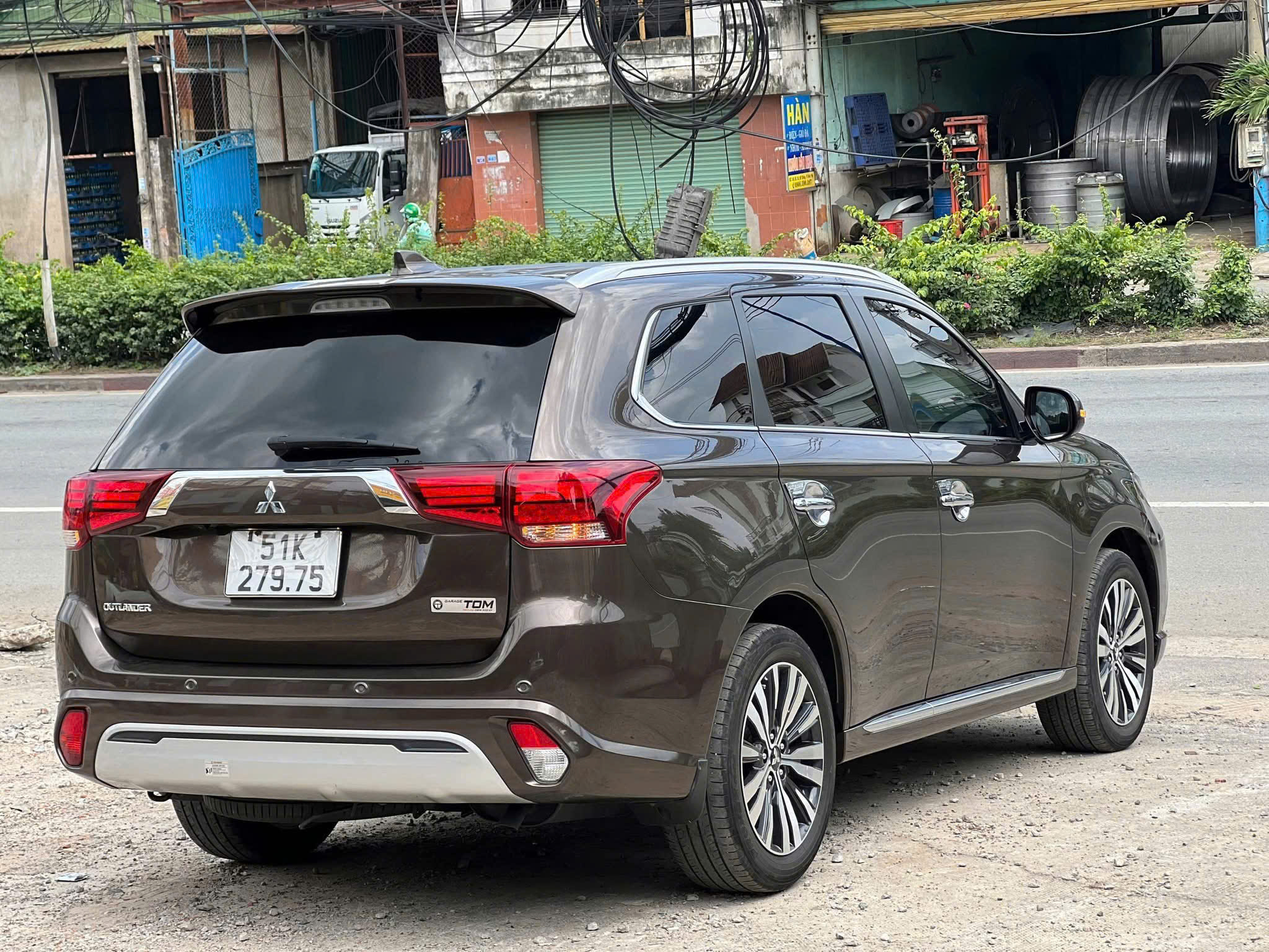Bien-so: (228, 525, 357, 599)
